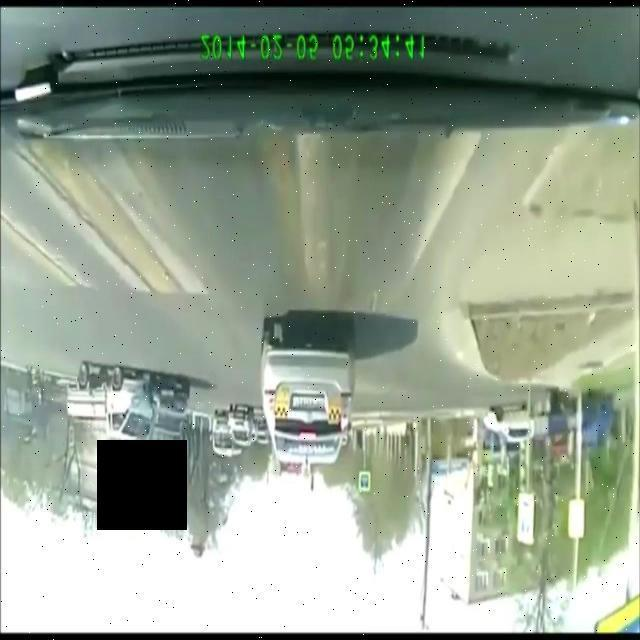vehicle: (70, 365, 199, 458)
